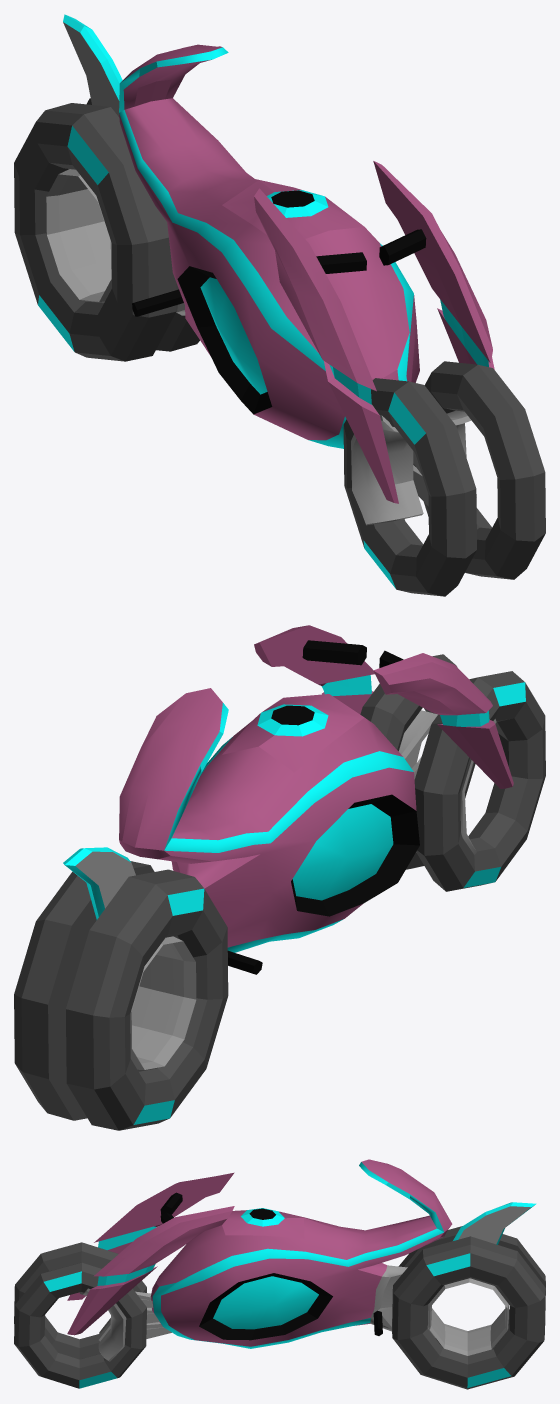
The model's file is MotorCycle.fbx.
3 renders of one model, top to bottom at view 1: azimuth 30°, elevation 25°; view 2: azimuth 150°, elevation 25°; view 3: azimuth 270°, elevation 25°, orthographic. The views are drawn at different scales.
Visible parts, largest first — view 1: polySurface30; view 2: polySurface30; view 3: polySurface30.
Part boxes in pixels (x1,y1,x2,y2): polySurface30: [14, 14, 545, 596]; polySurface30: [14, 625, 545, 1130]; polySurface30: [14, 1159, 545, 1389].
Bounding box in the file's own units: 3.72 × 7.88 × 17.44.
